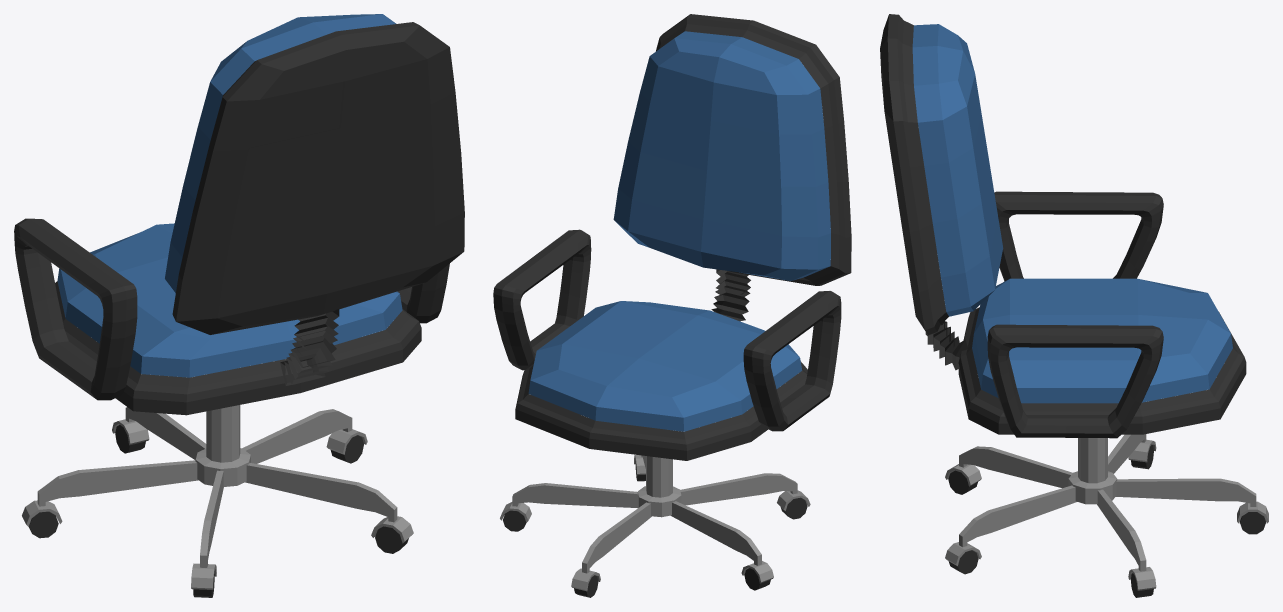
File: OfficeChair.glb
The picture shows the model from 3 angles, left to right: view 1: azimuth 30°, elevation 25°; view 2: azimuth 150°, elevation 25°; view 3: azimuth 270°, elevation 25°; orthographic projection. The views are drawn at different scales.
Parts seen in each view (by area): view 1: OfficeChair; view 2: OfficeChair; view 3: OfficeChair.
Part boxes in pixels (x1,y1,x2,y2): OfficeChair: (14, 14, 464, 597); OfficeChair: (493, 14, 851, 597); OfficeChair: (880, 14, 1268, 597).
Bounding box in the file's own units: 0.8208 × 1.28 × 0.918.
